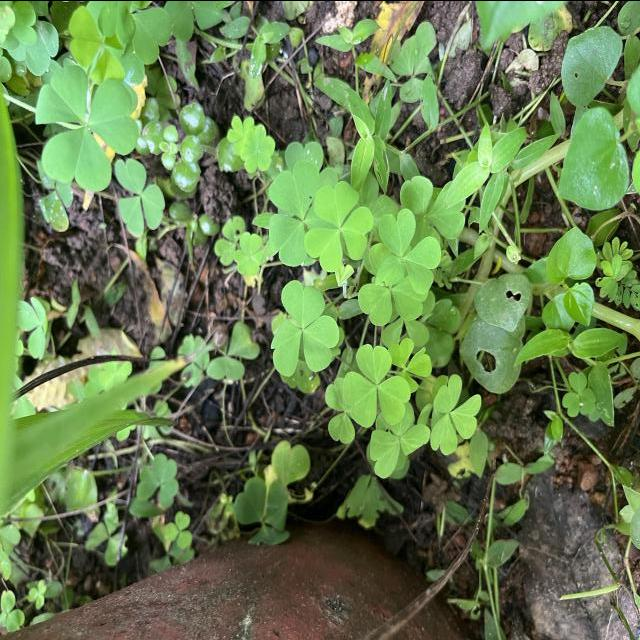Oxalis corniculata: (34, 61, 140, 192), (270, 278, 340, 376), (303, 179, 374, 272), (342, 343, 412, 428), (374, 208, 442, 294), (266, 158, 312, 267), (430, 372, 482, 456), (114, 156, 166, 238), (138, 452, 180, 509), (240, 123, 276, 173), (562, 370, 597, 418), (234, 230, 262, 276), (164, 509, 194, 548)
